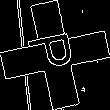P_E: (27, 32, 83, 78)
